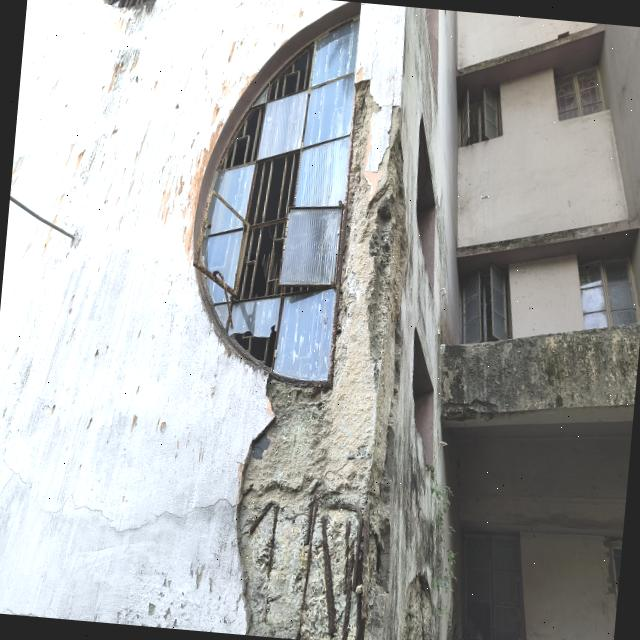Broken window pane: (195, 1, 361, 389)
Paint Peeling: (154, 58, 260, 273), (48, 42, 150, 222)
Spalling: (237, 83, 407, 640)
pollution -moisture induced blackening: (441, 319, 640, 419), (329, 555, 331, 565)
